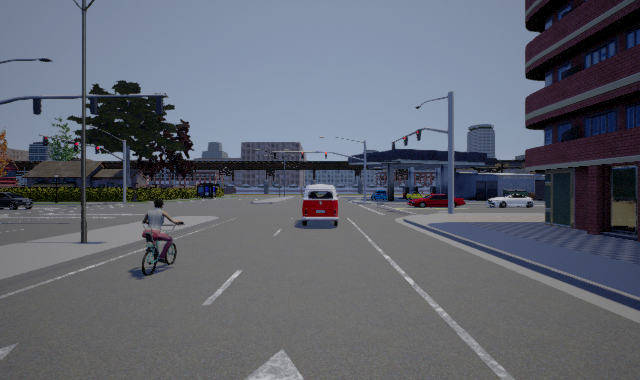bike: (142, 200, 185, 276)
traffic_light: (43, 136, 49, 146), (416, 129, 421, 141), (403, 136, 408, 146), (74, 142, 79, 151), (95, 146, 100, 154), (391, 142, 395, 150), (301, 152, 304, 159), (274, 151, 276, 159), (325, 152, 327, 159)
vehicle: (302, 184, 339, 226), (409, 191, 466, 210), (486, 194, 534, 208), (1, 192, 33, 210), (370, 190, 390, 200)
